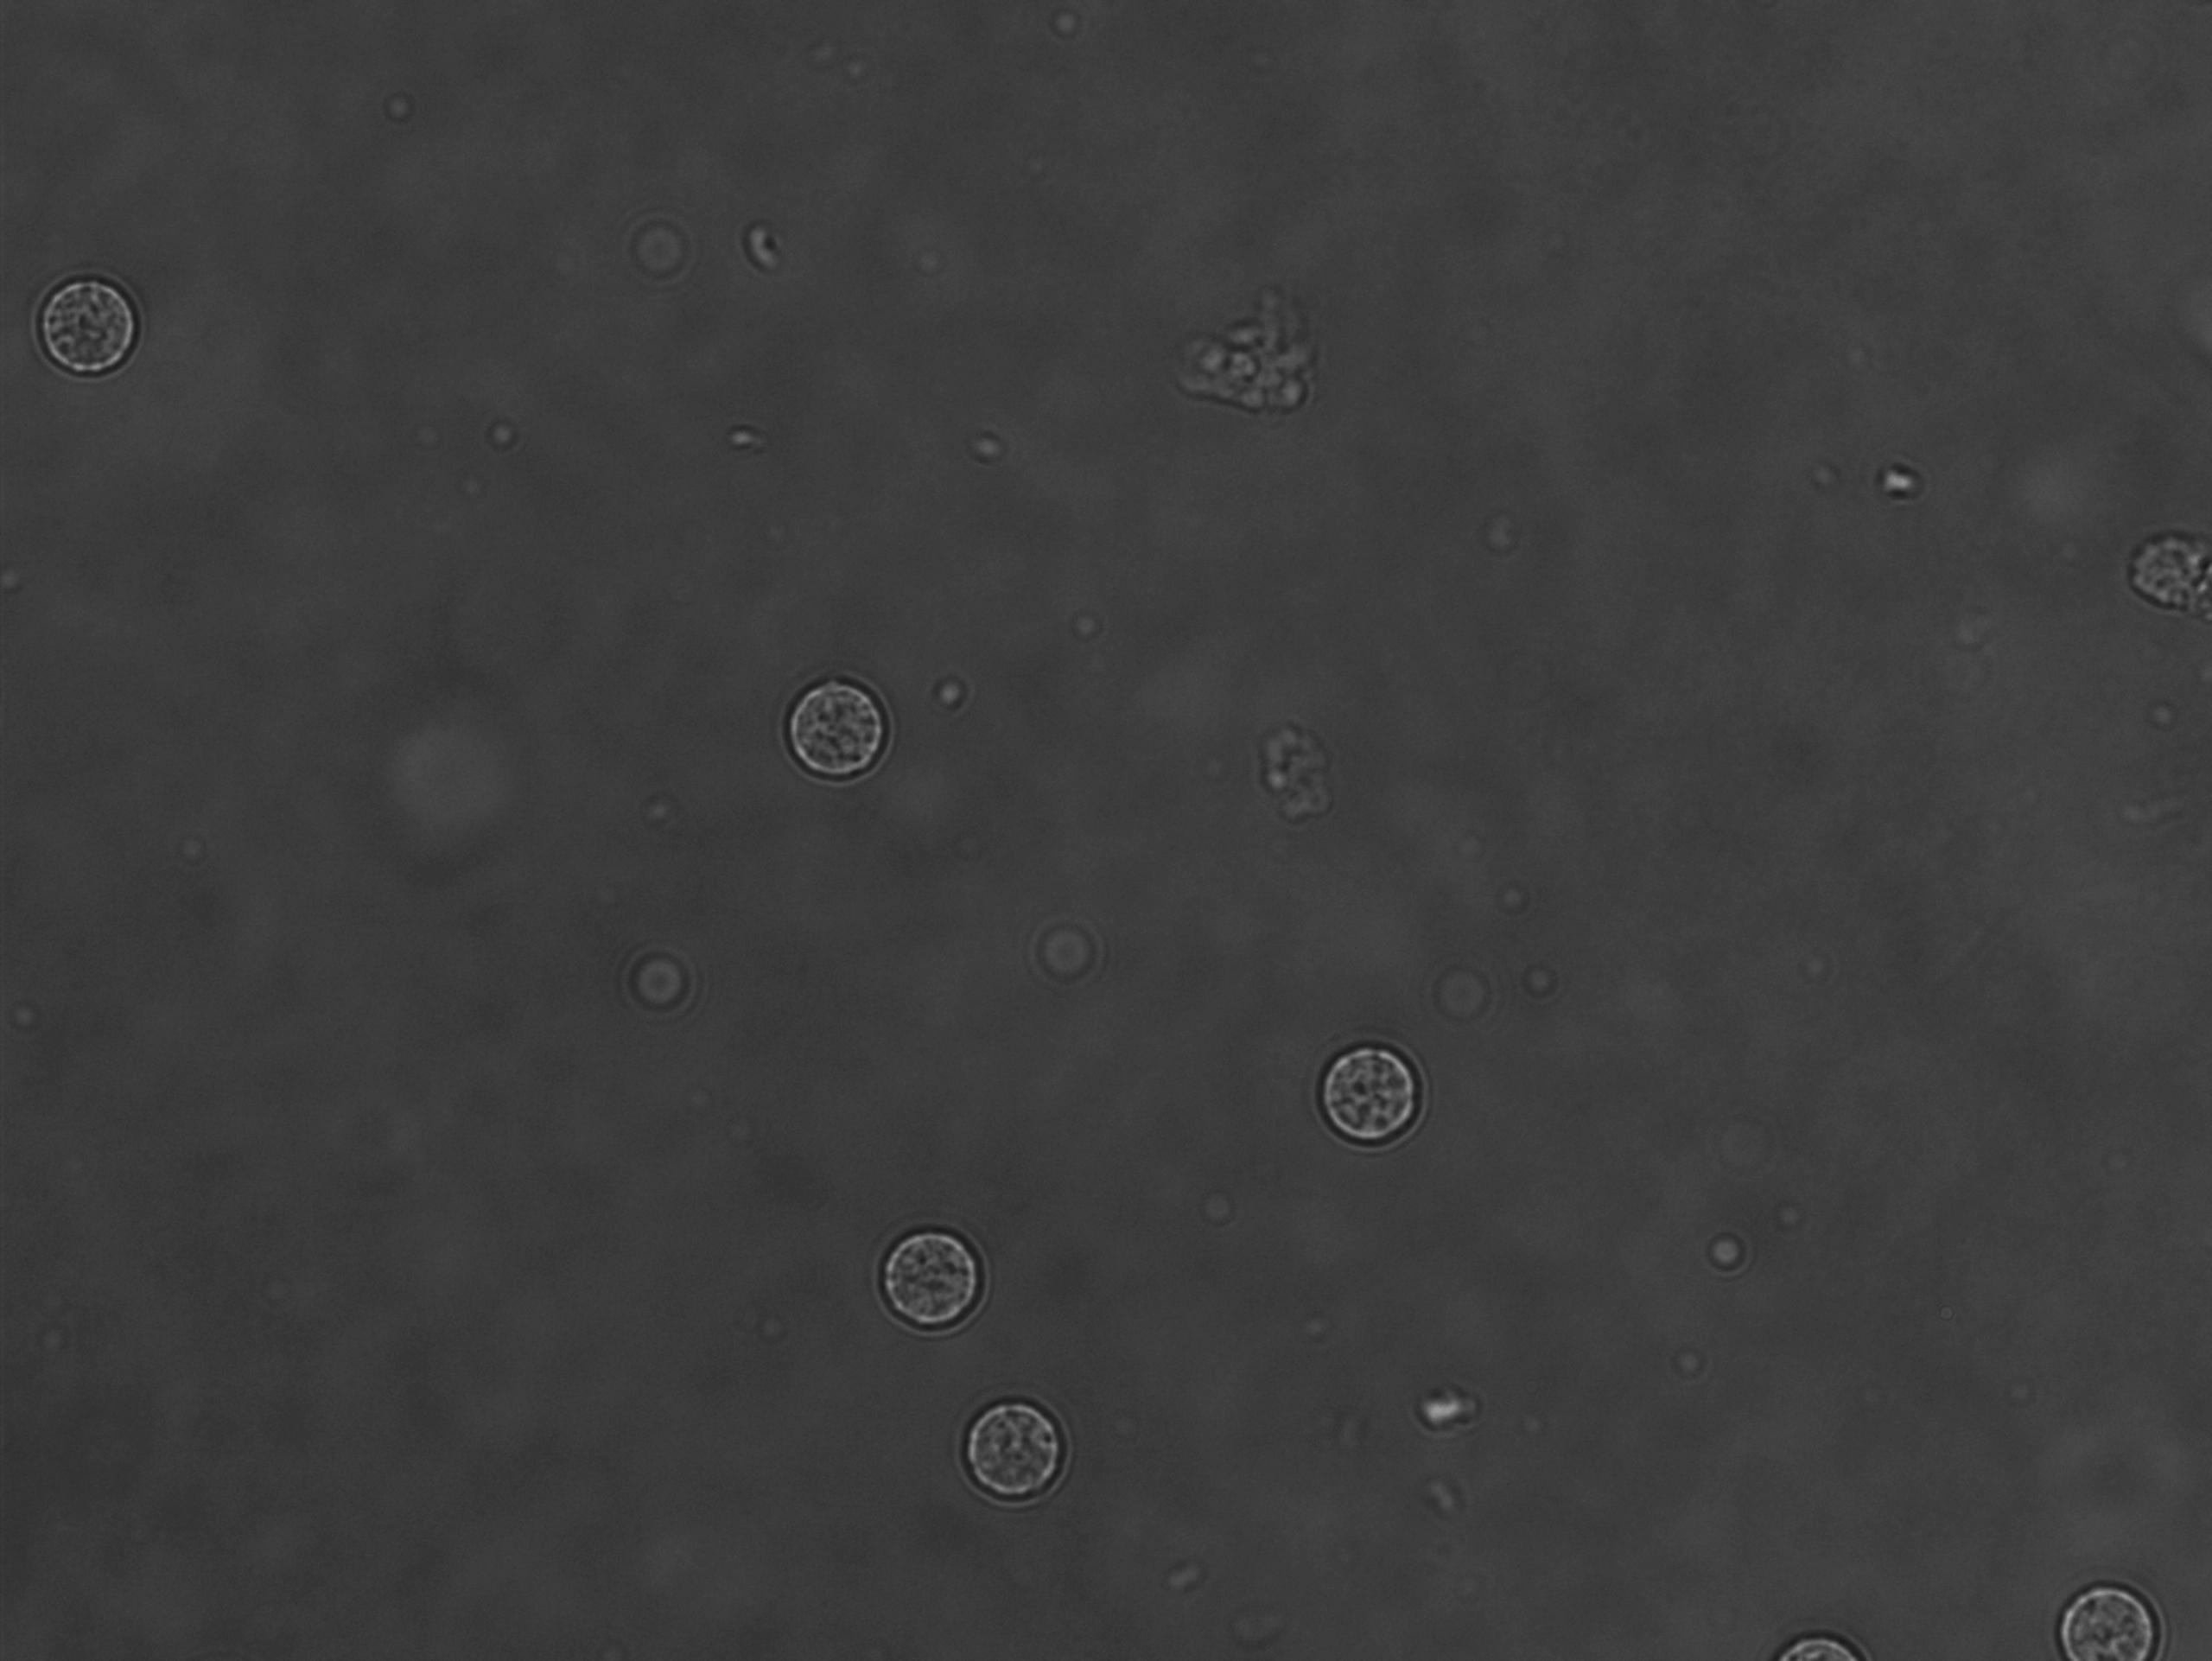depth:0: (1293, 1026, 1462, 1169), (942, 1371, 1099, 1511), (862, 1207, 1014, 1349), (769, 647, 909, 796), (30, 253, 167, 389), (2038, 1541, 2189, 1661)
